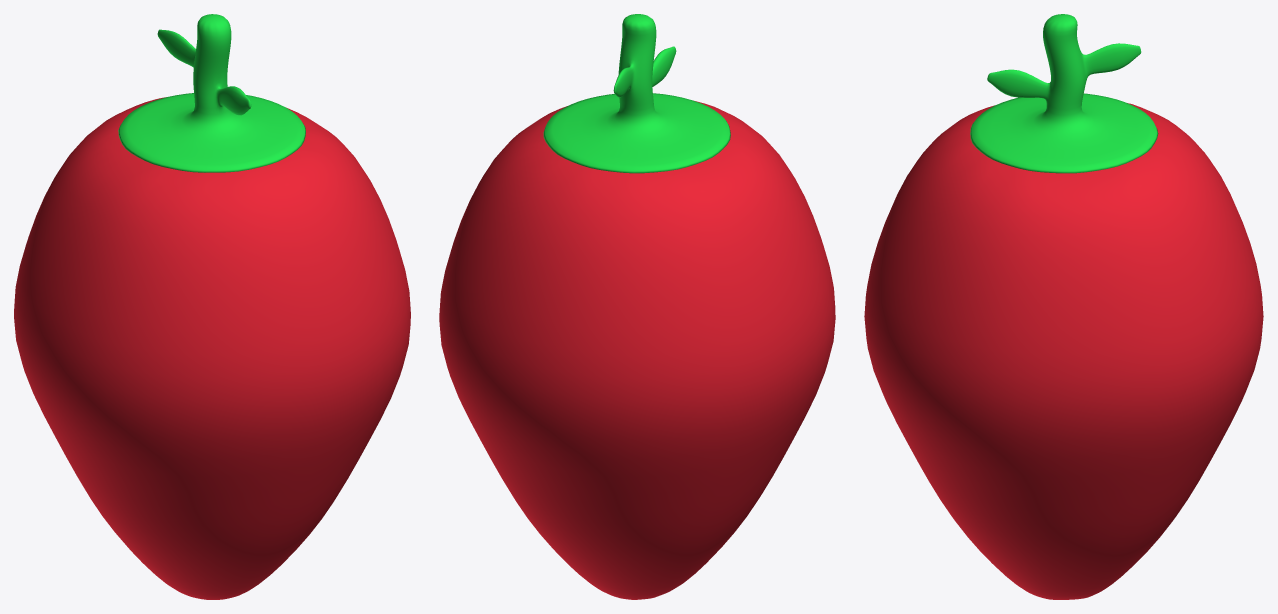
The model's file is strawberry1.fbx.
The picture shows the model from 3 angles, left to right: view 1: azimuth 30°, elevation 25°; view 2: azimuth 150°, elevation 25°; view 3: azimuth 270°, elevation 25°; orthographic projection.
Parts seen in each view (by area): view 1: Cylinder.002, Cylinder.001; view 2: Cylinder.002, Cylinder.001; view 3: Cylinder.002, Cylinder.001.
Part boxes in pixels (bbox=[...]): Cylinder.002: bbox=[14, 97, 410, 599]; Cylinder.001: bbox=[118, 14, 305, 172]; Cylinder.002: bbox=[439, 101, 835, 599]; Cylinder.001: bbox=[543, 14, 730, 173]; Cylinder.002: bbox=[864, 103, 1263, 599]; Cylinder.001: bbox=[970, 14, 1158, 173].
Size of the model in its own units: 210 by 340 by 214.
